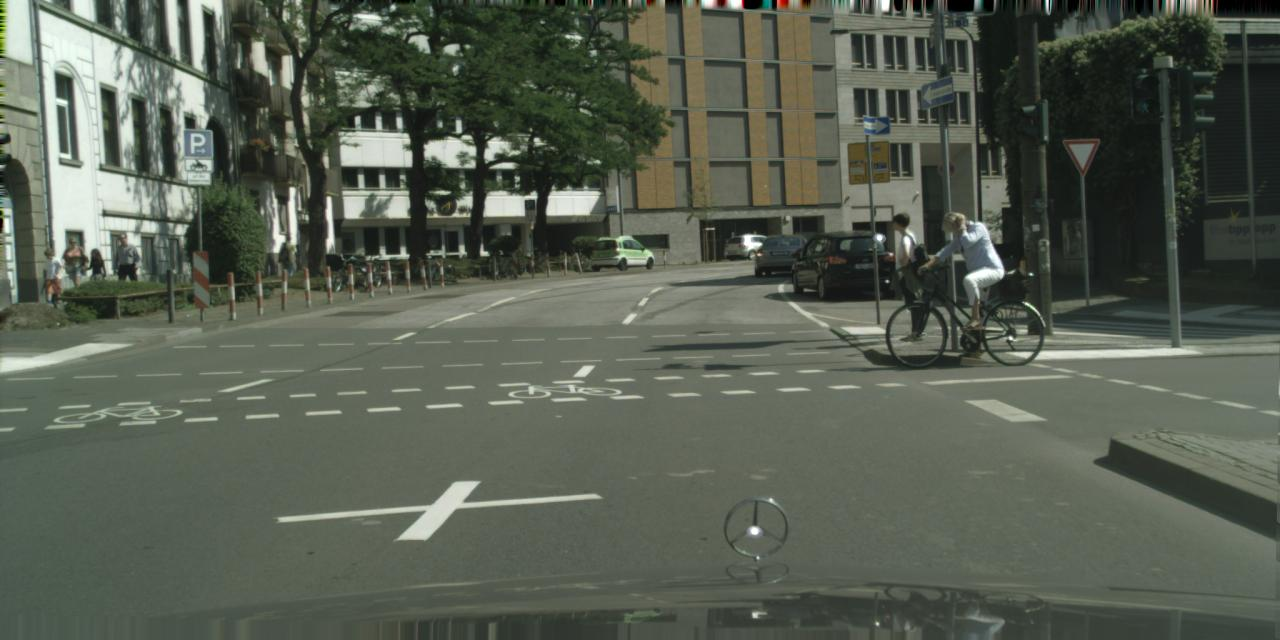ped: (936, 211, 990, 343), (884, 211, 936, 339), (111, 232, 141, 304), (60, 236, 90, 307), (39, 248, 64, 312), (85, 248, 109, 306), (278, 233, 298, 282)
